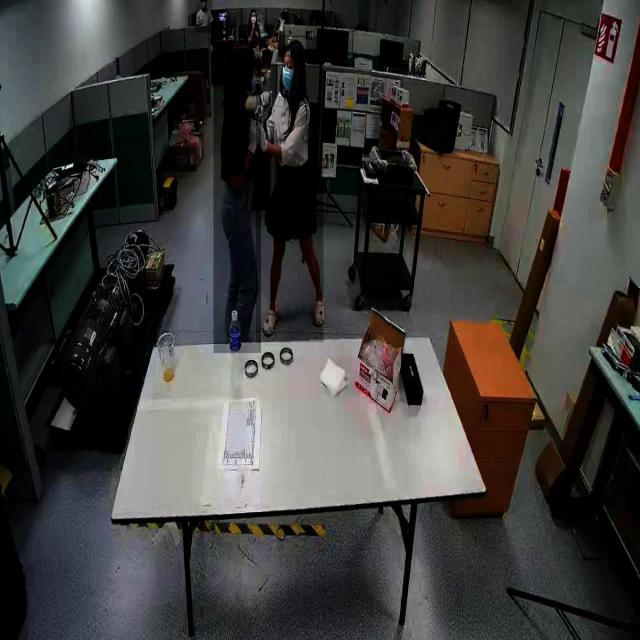face_mask: (277, 57, 298, 97)
hand_glove: (250, 119, 272, 157), (247, 85, 267, 118)
hand_noglove: (252, 22, 256, 29)
head_nohelmet: (224, 41, 256, 65), (284, 37, 306, 55), (250, 9, 257, 12)
person: (256, 36, 324, 343), (213, 45, 261, 354), (242, 8, 264, 49), (195, 0, 213, 34)
